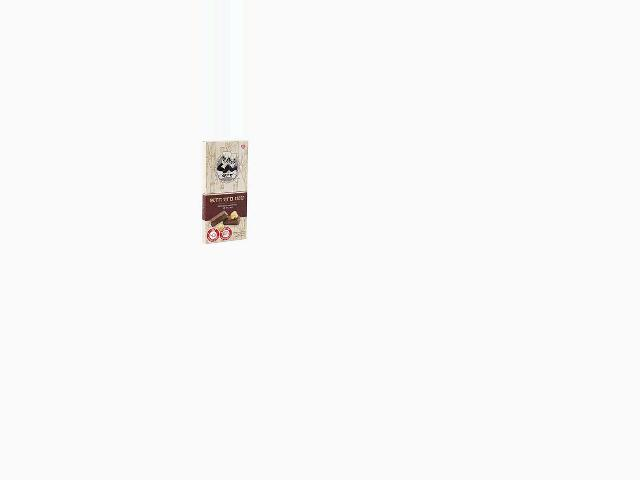chocolate: (194, 140, 249, 245)
